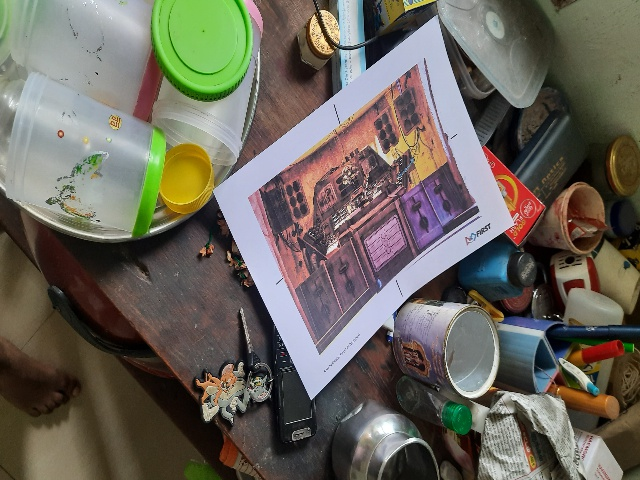rept1: (233, 67, 530, 286)
